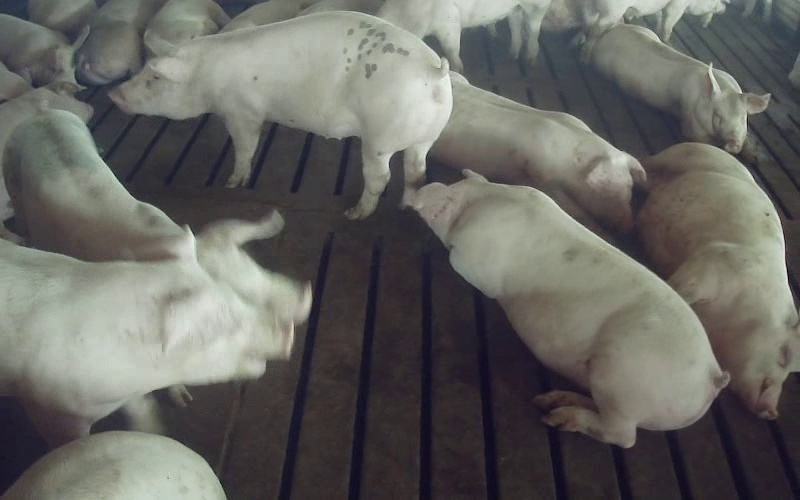pig: (414, 170, 728, 447), (110, 11, 452, 218), (637, 143, 799, 418), (430, 73, 645, 231), (592, 24, 768, 153)
